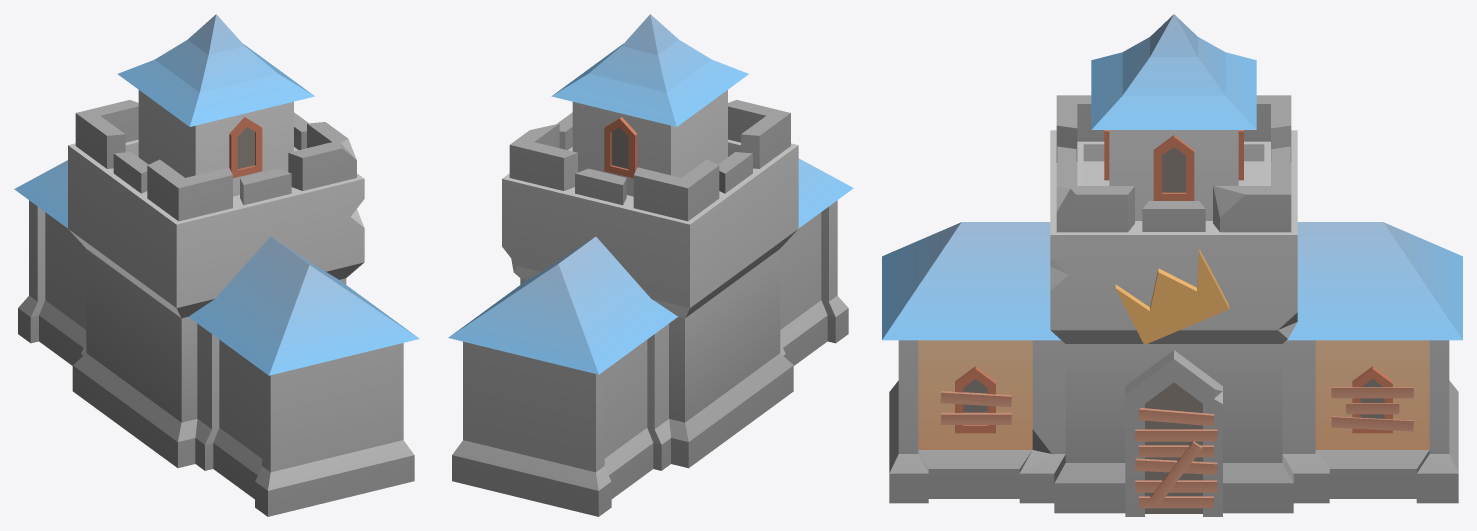
Rendered from [OBJ]Ruina_Castelo.fbx.
3 renders of one model, left to right at view 1: azimuth 30°, elevation 25°; view 2: azimuth 150°, elevation 25°; view 3: azimuth 270°, elevation 25°, orthographic. The views are drawn at different scales.
Visible parts, largest first — view 1: [OBJ]Ruina_Castelo; view 2: [OBJ]Ruina_Castelo; view 3: [OBJ]Ruina_Castelo.
Boxes of the visible parts, <box> form: [OBJ]Ruina_Castelo: <box>14,14,419,516</box>; [OBJ]Ruina_Castelo: <box>448,14,853,516</box>; [OBJ]Ruina_Castelo: <box>882,14,1462,516</box>.
Bounding box in the file's own units: 231 × 441 × 517.
